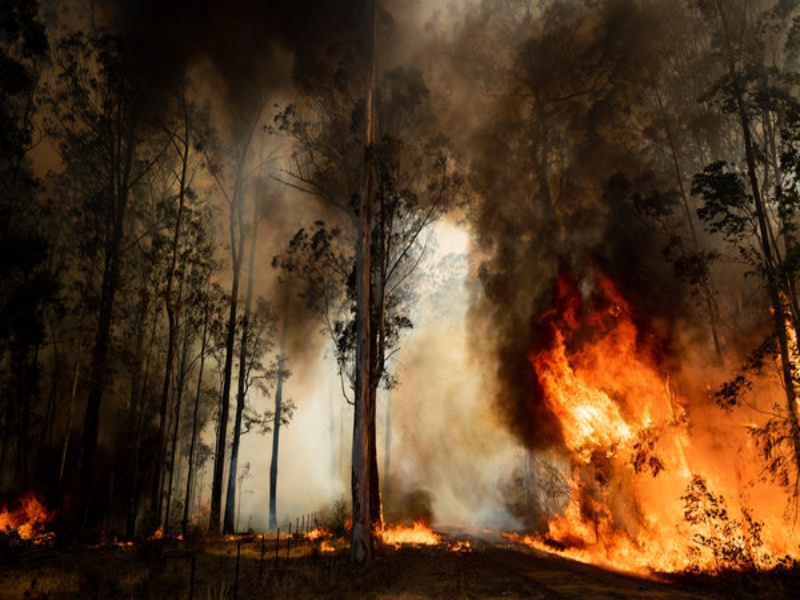fire: (586, 456, 799, 571), (544, 348, 656, 456), (1, 474, 54, 543), (375, 514, 441, 553), (296, 516, 343, 557)
